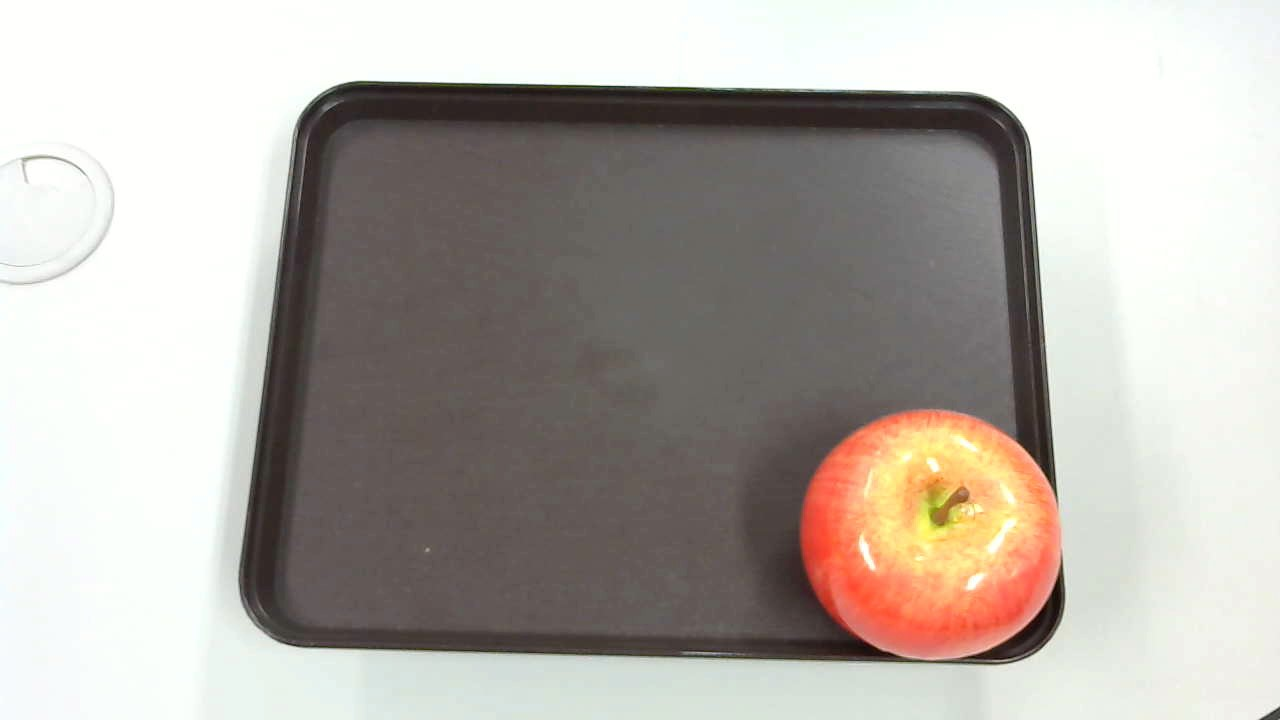red apple: (781, 396, 1071, 669)
